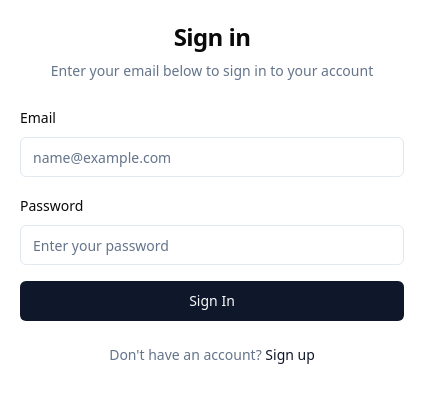
Test case: Login Page › shows validation error for short password
In the field labelled "Email": (212, 157) [20,137,404,177], type "test@example.com"
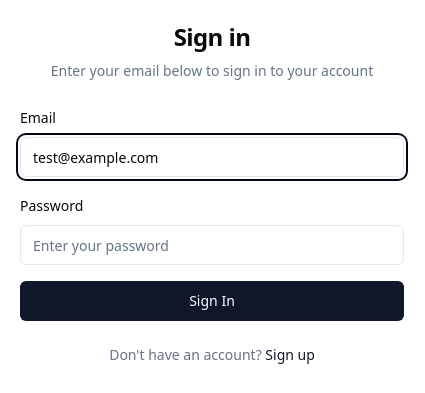
In the password field labelled "Password": (212, 245) [20,225,404,265], type "ab"
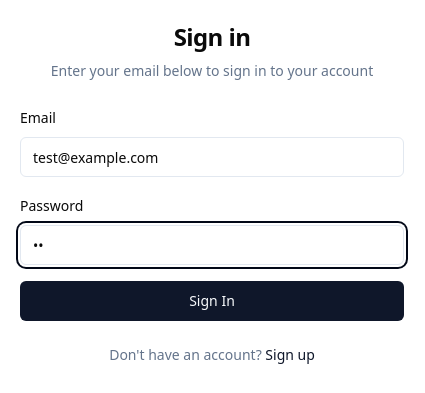
Click the button "Sign In": (212, 301) [20,281,404,321]
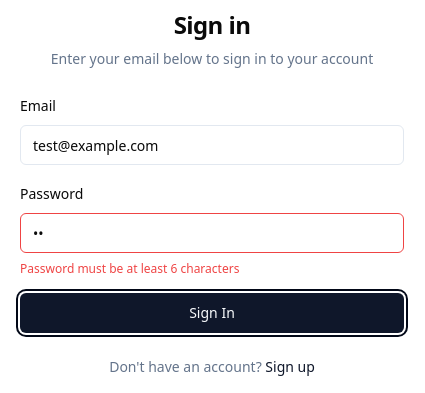
Result: the text "Password must be at least 6 characters" is shown at [20,260,239,277]
